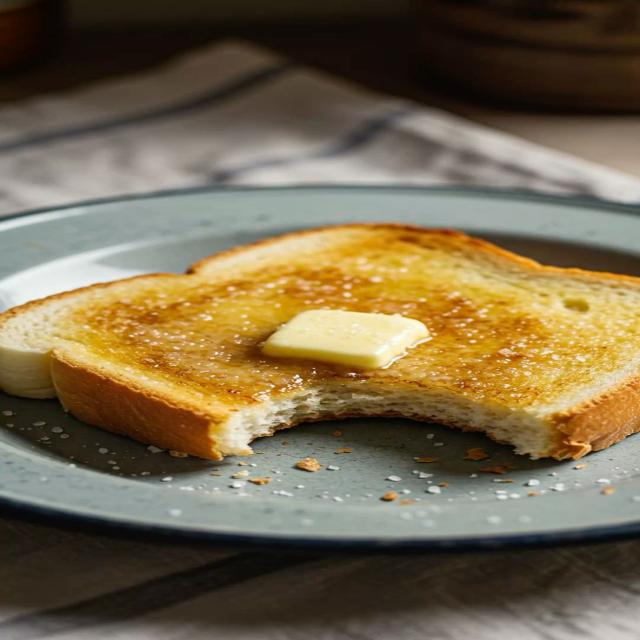toast bread: (0, 225, 639, 458)
